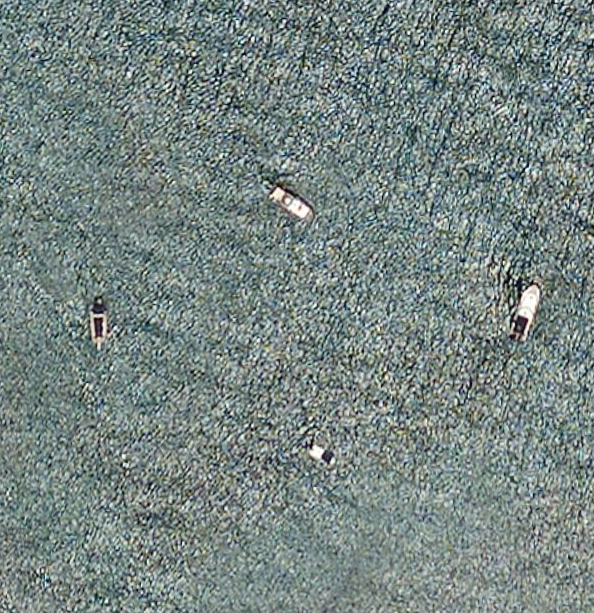ship: (499, 281, 554, 348), (255, 178, 322, 229), (82, 294, 116, 355)
